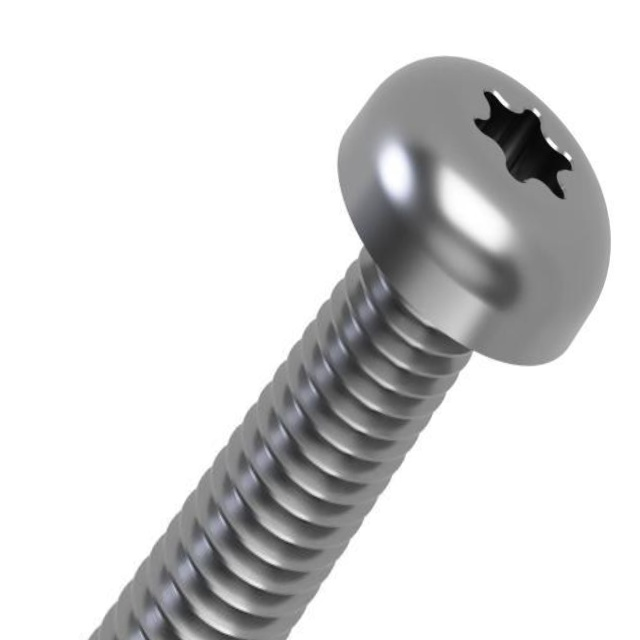torx: (321, 20, 615, 388)
